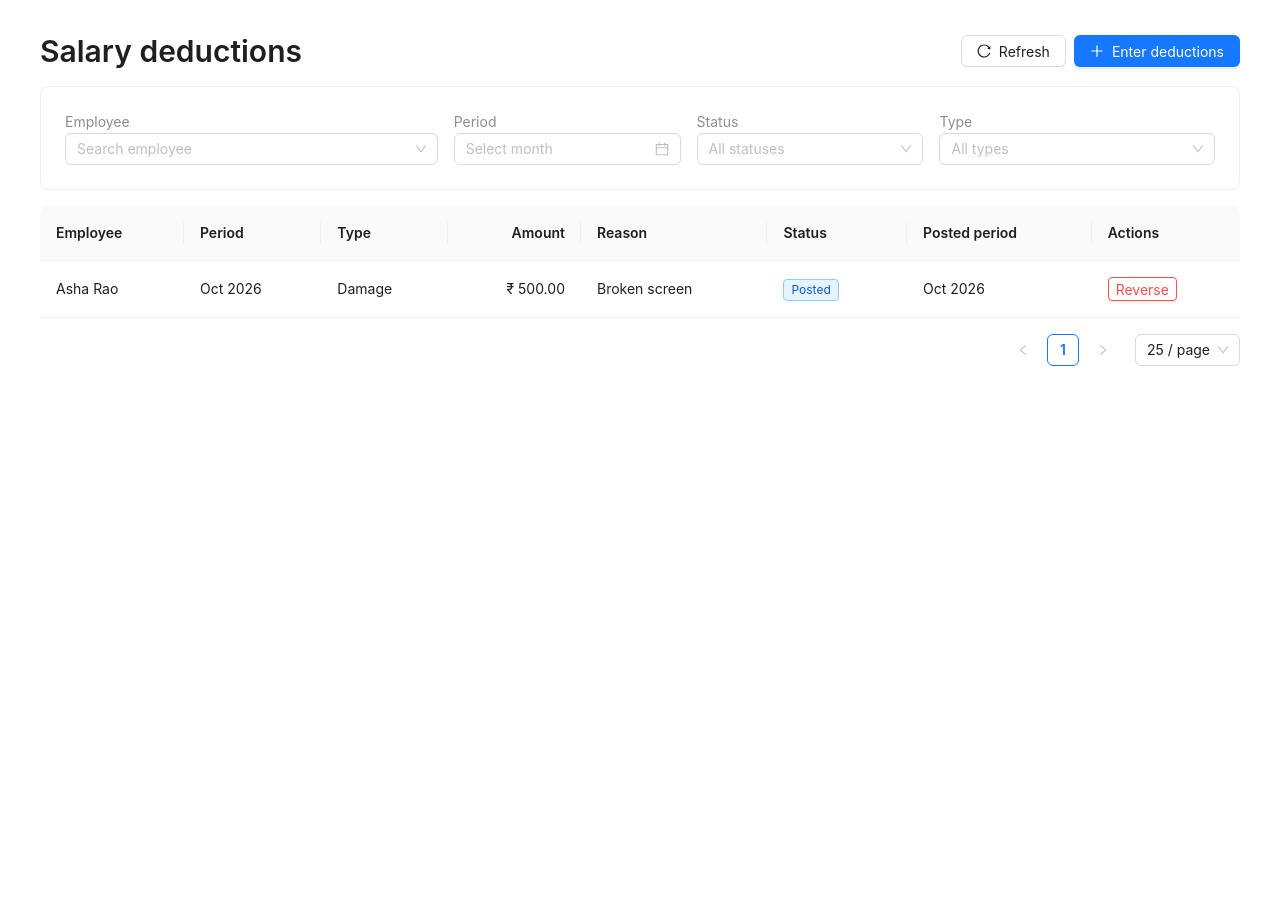
Test: DeductionList (W-47.4 §7) › a 409 on reverse reloads that row
The image size is (1280, 900).
Click the button "Reverse": [1142, 289] box [1108,277,1177,301]
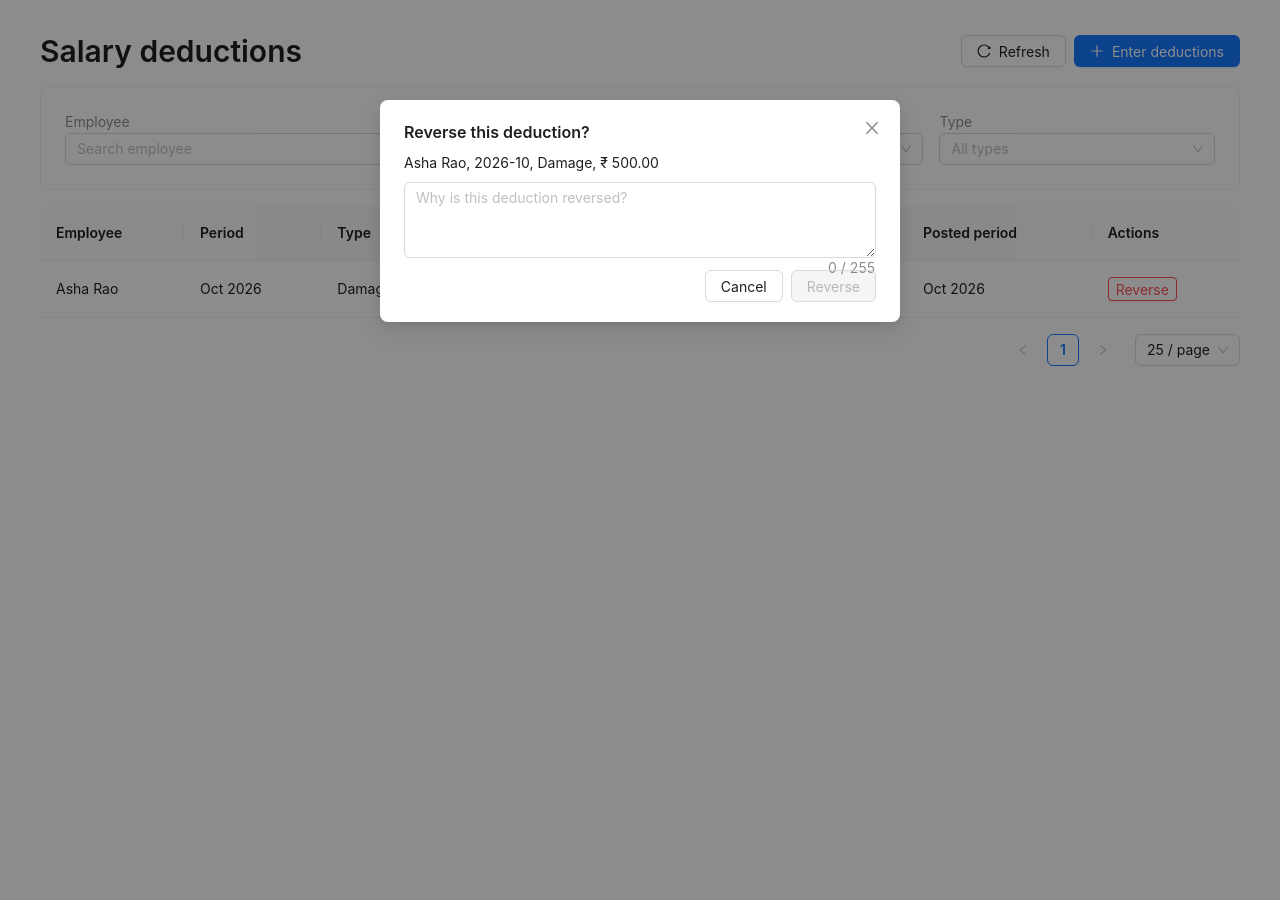
In the text box named "Reason for reversal": [640, 220] box [405,183,875,257], type "Duplicate"
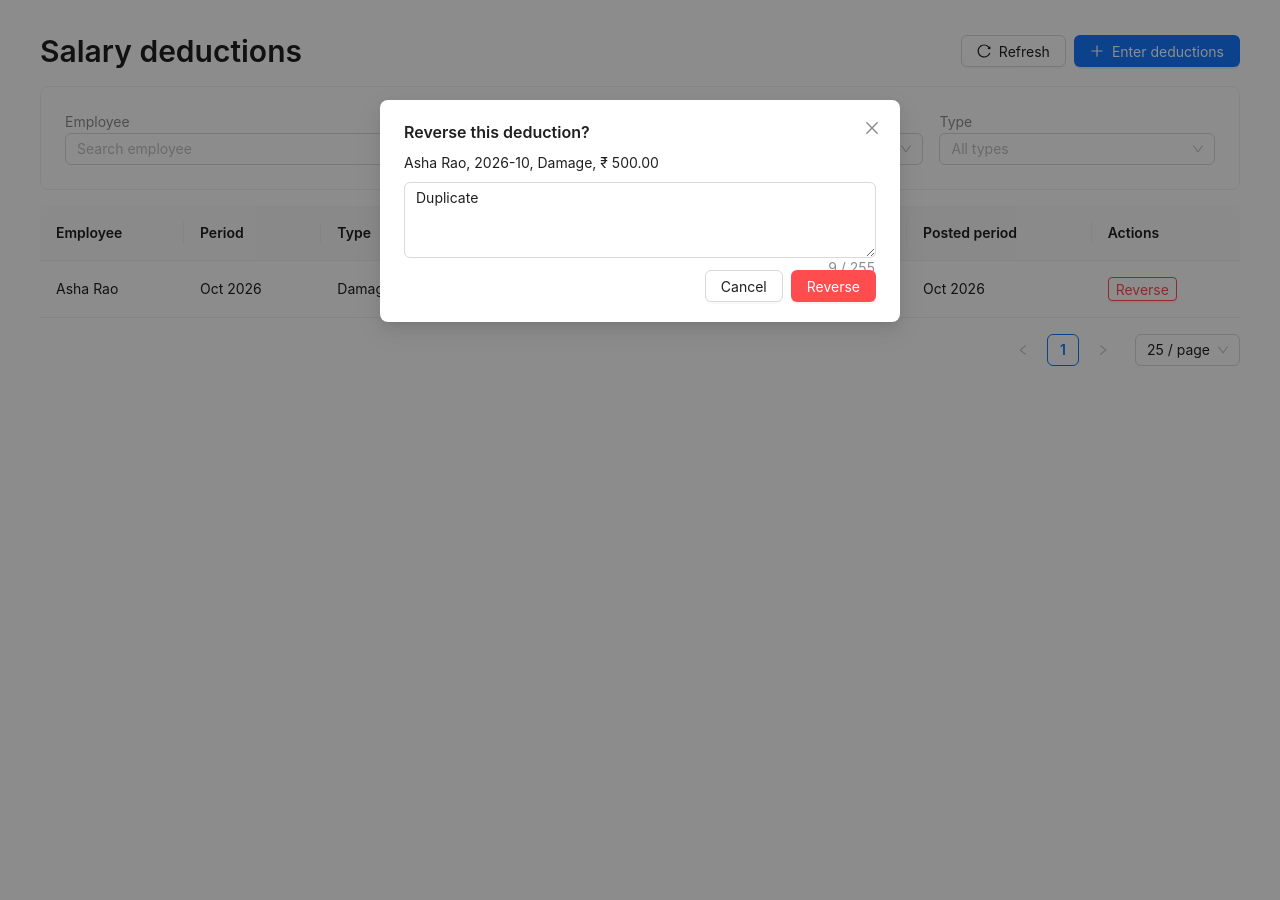
Click the button "Reverse": [833, 286] box [791,270,876,302]
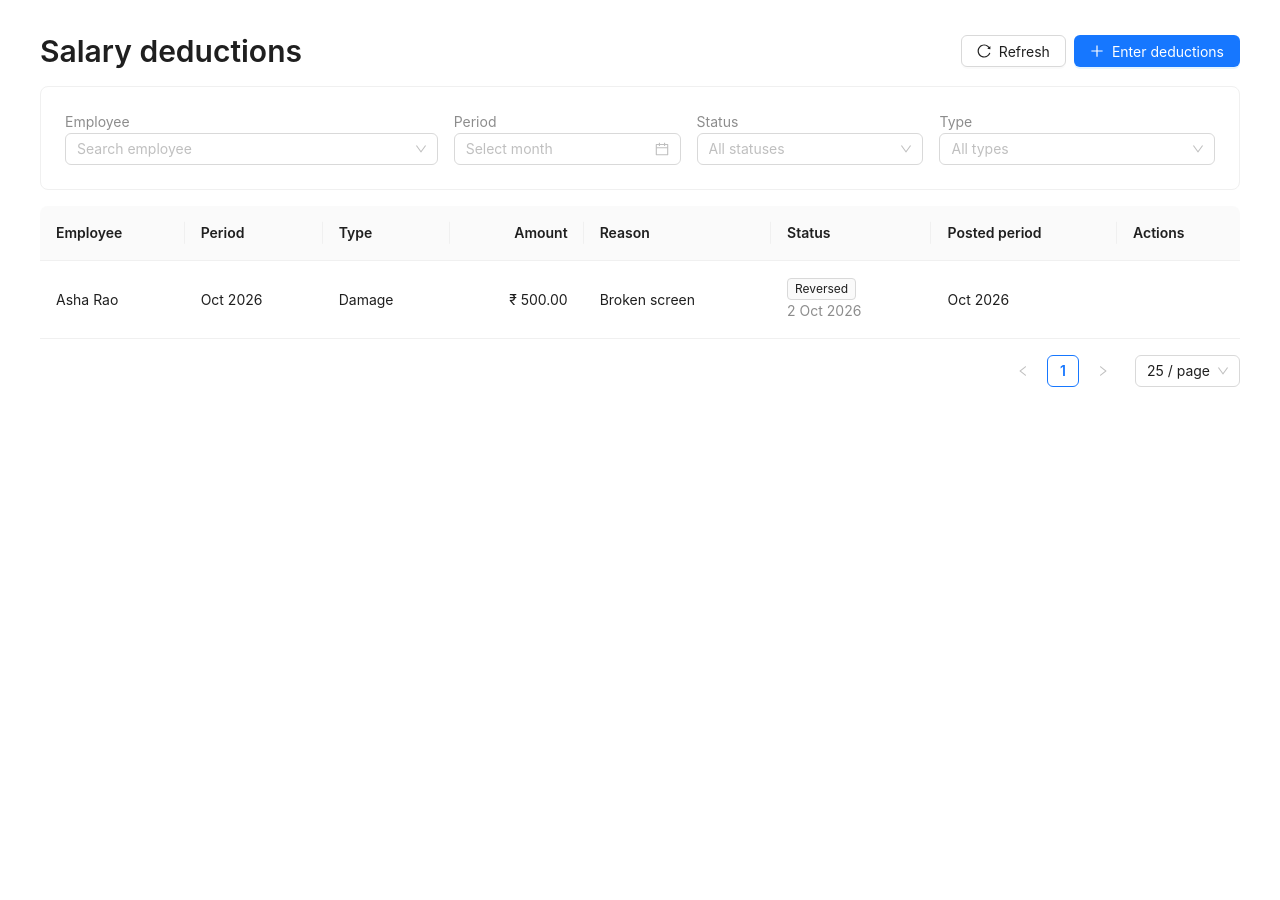
Expected: the text "Reversed" is shown, [787,278,856,300]
